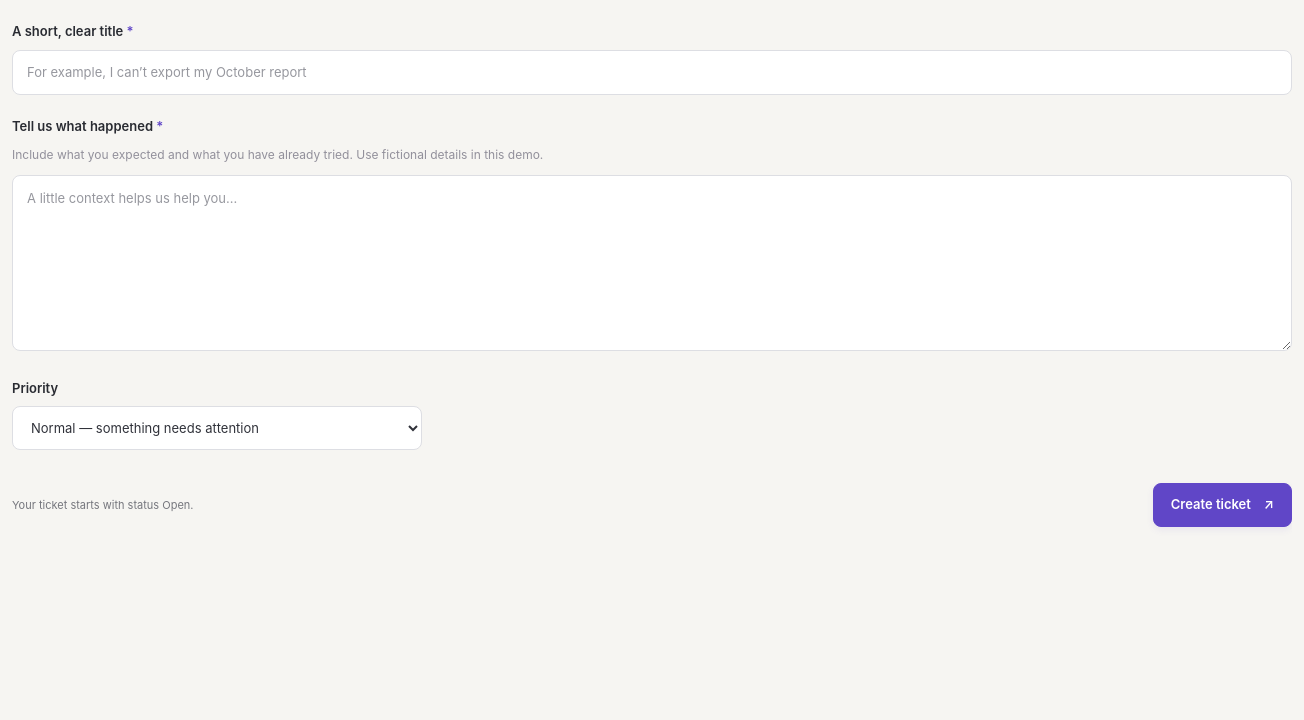
it: keeps a failed ticket draft and explains the failure
Step 1. Type "Draft title" into the field labelled "A short, clear title *" → (652, 72), box [12,50,1292,95]
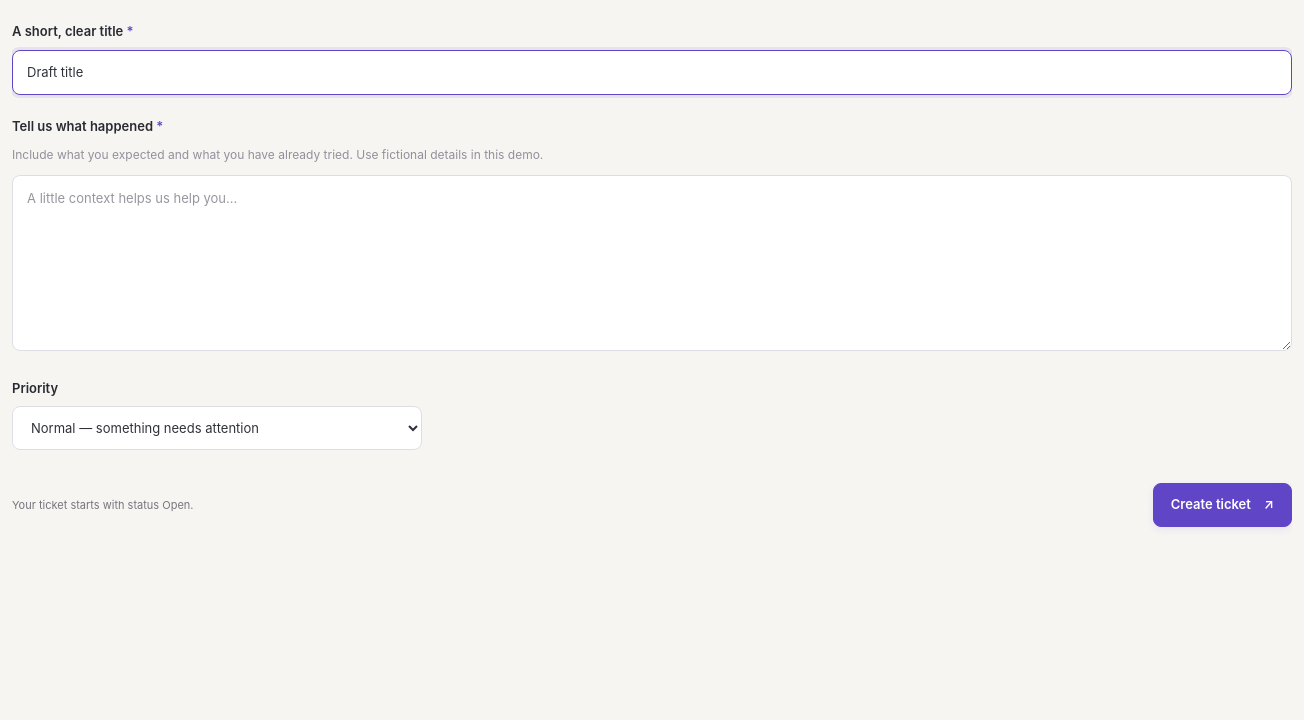
Step 2. Type "A useful description for this test." into the text box labelled "Tell us what happened *" → (652, 263), box [12,175,1292,351]
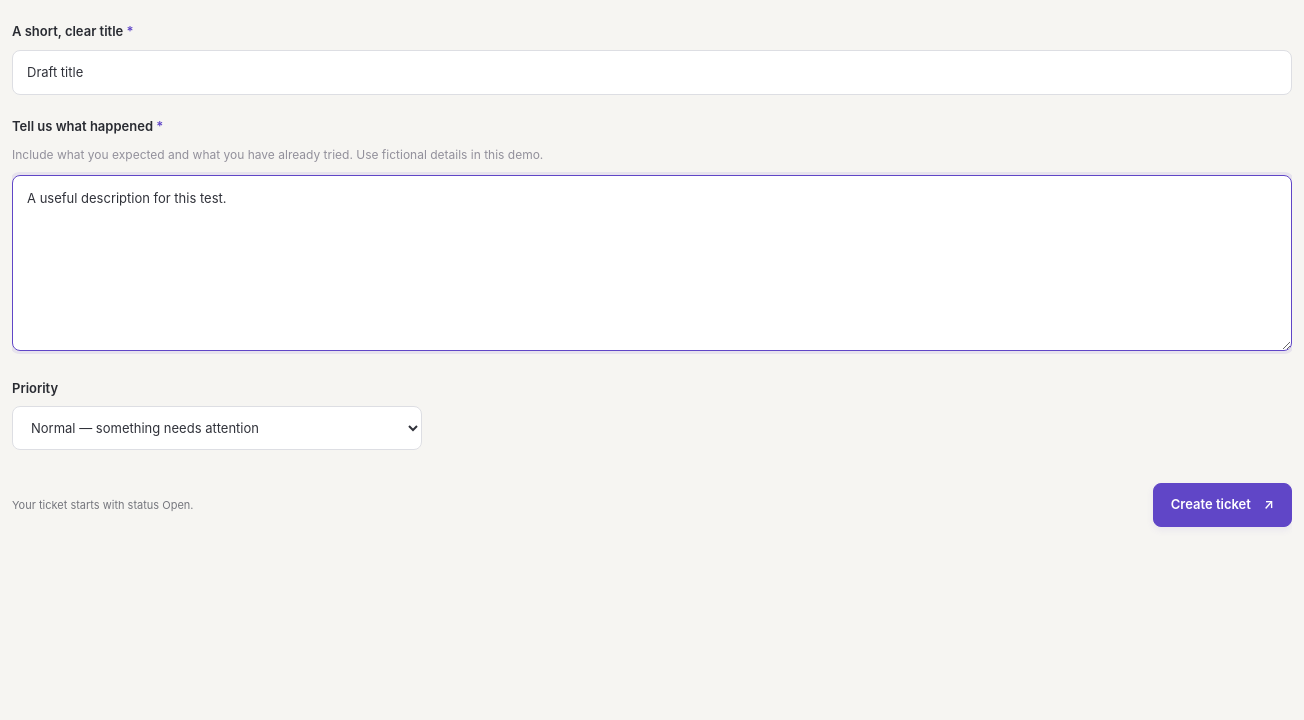
Step 3. Click the button "Create ticket ↗" → click(1222, 505), box [1153,484,1292,527]
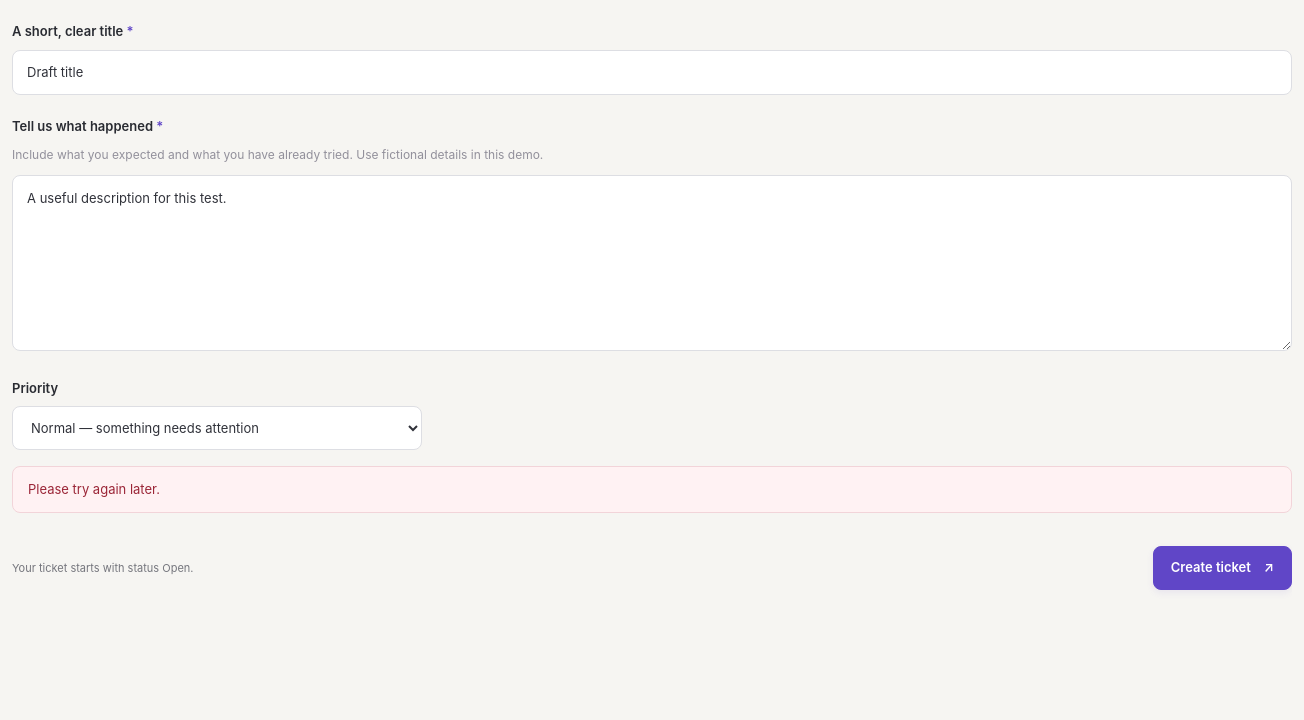
Expected: the message reads "Please try again later.", [28,482,160,498]
